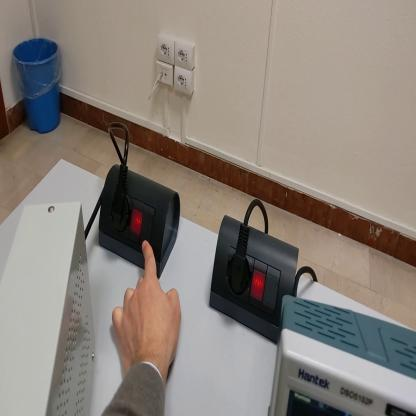hand: (112, 240, 181, 377)
oscilloscope: (268, 296, 416, 416)
power supply: (2, 203, 96, 416)
socket: (208, 214, 301, 352), (95, 163, 186, 279)
